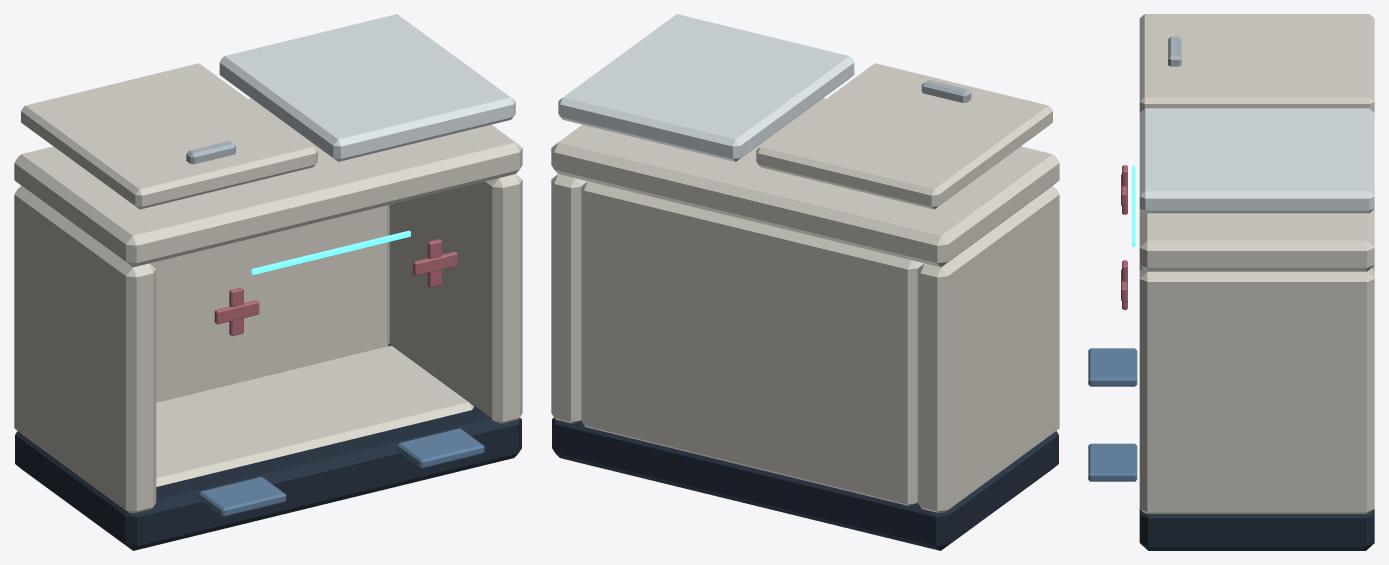
File: clinic_12.glb
3 renders of one model, left to right at view 1: azimuth 30°, elevation 25°; view 2: azimuth 150°, elevation 25°; view 3: azimuth 270°, elevation 25°, orthographic.
Parts seen in each view (by area): view 1: Side (×2), Back, Top, ClosedWasteTop, Lid, Bottom, Base, WastePedal (×2), MedicalCrossHorizontal (×2), StatusLight, Handle; view 2: Back, Side (×2), Top, ClosedWasteTop, Lid, Base, Handle; view 3: Side, ClosedWasteTop, Lid, Top, Base, WastePedal (×2), Handle.
Part boxes in pixels (bbox=[...]): Side (×2): bbox=[14, 174, 522, 513]; Back: bbox=[150, 205, 389, 402]; Top: bbox=[14, 98, 522, 267]; ClosedWasteTop: bbox=[219, 14, 515, 161]; Lid: bbox=[21, 63, 317, 209]; Bottom: bbox=[156, 345, 473, 486]; Base: bbox=[15, 343, 521, 550]; WastePedal (×2): bbox=[199, 428, 484, 516]; MedicalCrossHorizontal (×2): bbox=[214, 251, 457, 324]; StatusLight: bbox=[251, 230, 410, 274]; Handle: bbox=[186, 141, 235, 164]; Back: bbox=[581, 181, 923, 505]; Side (×2): bbox=[551, 174, 1059, 513]; Top: bbox=[551, 98, 1059, 267]; ClosedWasteTop: bbox=[558, 14, 854, 161]; Lid: bbox=[756, 63, 1052, 209]; Base: bbox=[552, 418, 1058, 550]; Handle: bbox=[921, 79, 971, 102]; Side: bbox=[1139, 268, 1374, 513]; ClosedWasteTop: bbox=[1139, 108, 1374, 213]; Lid: bbox=[1139, 14, 1374, 112]; Top: bbox=[1139, 209, 1374, 271]; Base: bbox=[1139, 509, 1374, 550]; WastePedal (×2): bbox=[1088, 348, 1137, 481]; Handle: bbox=[1168, 36, 1181, 66].
Size of the model in its own units: 0.92 by 0.824 by 0.585.
